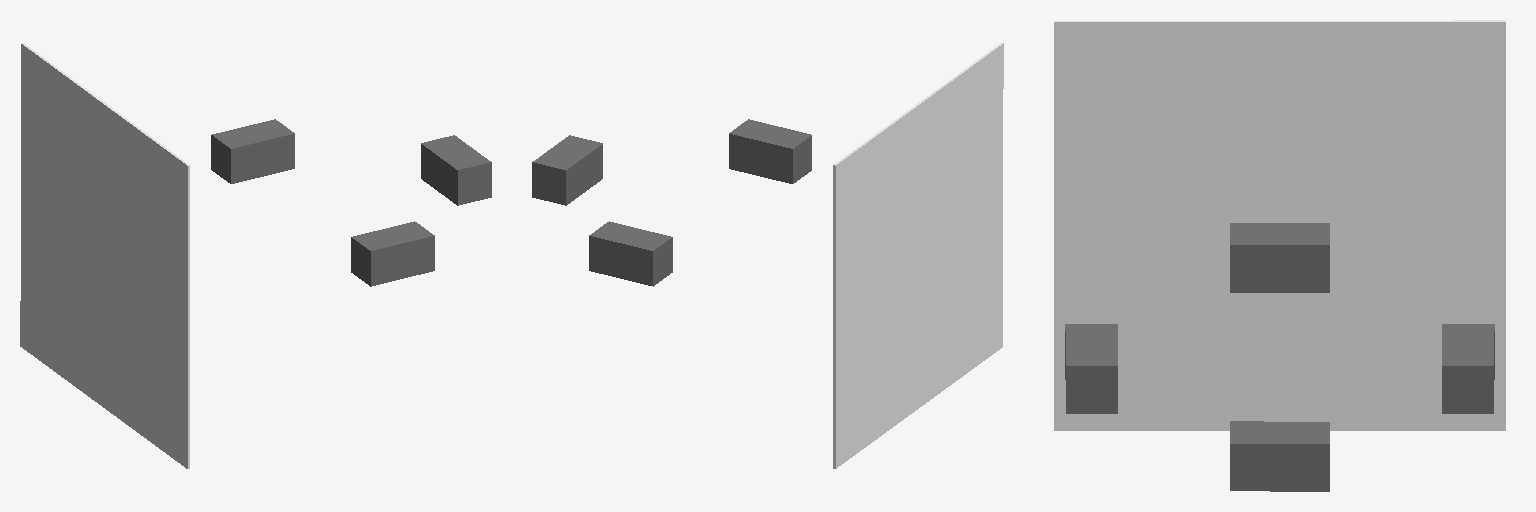
robot.urdf — turtlebot3_burger_cam:
<?xml version="1.0" ?>
<robot name="turtlebot3_burger_cam"
  xmlns:xacro="http://ros.org/wiki/xacro">
  
  <material name="black">
      <color rgba="0.0 0.0 0.0 1.0"/>
  </material>

  <material name="dark">
    <color rgba="0.3 0.3 0.3 1.0"/>
  </material>

  <material name="light_black">
    <color rgba="0.4 0.4 0.4 1.0"/>
  </material>

  <material name="blue">
    <color rgba="0.0 0.0 0.8 1.0"/>
  </material>

  <material name="green">
    <color rgba="0.0 0.8 0.0 1.0"/>
  </material>

  <material name="grey">
    <color rgba="0.5 0.5 0.5 1.0"/>
  </material>

  <material name="orange">
    <color rgba="1.0 0.4235 0.0392 1.0"/>
  </material>

  <material name="brown">
    <color rgba="0.8706 0.8118 0.7647 1.0"/>
  </material>

  <material name="red">
    <color rgba="0.8 0.0 0.0 1.0"/>
  </material>

  <material name="white">
    <color rgba="1.0 1.0 1.0 1.0"/>
  </material>
  
  <link name="base_footprint"/>

  <joint name="base_joint" type="fixed">
    <parent link="base_footprint"/>
    <child link="base_link"/>
    <origin xyz="0.0 0.0 0.010" rpy="0 0 0"/>
  </joint>

  <link name="base_link">
    <visual>
      <origin xyz="-0.032 0 0.0" rpy="0 0 0"/>
      <geometry>
        <mesh filename="package://leader_bot/meshes/bases/burger_base.stl" scale="0.001 0.001 0.001"/>
      </geometry>
      <material name="light_black"/>
    </visual>

    <collision>
      <origin xyz="-0.032 0 0.070" rpy="0 0 0"/>
      <geometry>
        <box size="0.140 0.140 0.143"/>
      </geometry>
    </collision>

    <inertial>
      <origin xyz="0 0 0" rpy="0 0 0"/>
      <mass value="8.2573504e-01"/>
      <inertia ixx="2.2124416e-03" ixy="-1.2294101e-05" ixz="3.4938785e-05" iyy="2.1193702e-03" iyz="-5.0120904e-06" izz="2.0064271e-03" />
    </inertial>
  </link>

   <!-- ───────────── MATERIAL DEFINITIONS ───────────── -->
  <material name="aruco_texture">
    <color rgba="1.0 1.0 1.0 1.0"/>
    <texture filename="[local-path]/formation_turtlebot/src/leader_bot/models/aruco_marker/image.png"/>
  </material>

  <!-- ───────────── ARUCO MARKER ATTACHMENT ───────────── -->
  <joint name="aruco_marker_joint" type="fixed">
    <!-- Place behind the robot (0.12 m) and 0.10 m up -->
    <origin xyz="-0.12 0 0.10" rpy="0 0 1.57"/>
    <parent link="base_link"/>
    <child link="aruco_marker_link"/>
  </joint>

  <link name="aruco_marker_link">
    <visual>
      <!-- Rotate around Y so the marker faces backward if needed -->
      <origin xyz="0 0 0" rpy="0 1.57 0"/>
      <geometry>
        <!-- A 12 cm x 12 cm marker plate, 1 mm thick -->
        <box size="0.12 0.001 0.12"/>

      </geometry>
      <material name="aruco_texture"/>
    </visual>
  </link>

  <!-- Gazebo extension for texture so it's not all white in simulation -->
  <gazebo reference="aruco_marker_link">
    <material>
      <script>
        <!-- Correct the directory for Gazebo to recognize -->
        <uri>model://aruco_marker</uri>
        <name>aruco_texture</name>
      </script>
    </material>
  </gazebo>



  <joint name="wheel_left_joint" type="continuous">
    <parent link="base_link"/>
    <child link="wheel_left_link"/>
    <origin xyz="0.0 0.08 0.023" rpy="-1.57 0 0"/>
    <axis xyz="0 0 1"/>
  </joint>

  <link name="wheel_left_link">
    <visual>
      <origin xyz="0 0 0" rpy="1.57 0 0"/>
      <geometry>
        <mesh filename="package://leader_bot/meshes/wheels/left_tire.stl" scale="0.001 0.001 0.001"/>
      </geometry>
      <material name="dark"/>
    </visual>

    <collision>
      <origin xyz="0 0 0" rpy="0 0 0"/>
      <geometry>
        <cylinder length="0.018" radius="0.033"/>
      </geometry>
    </collision>

    <inertial>
      <origin xyz="0 0 0" />
      <mass value="2.8498940e-02" />
      <inertia ixx="1.1175580e-05" ixy="-4.2369783e-11" ixz="-5.9381719e-09" iyy="1.1192413e-05" iyz="-1.4400107e-11" izz="2.0712558e-05" />
    </inertial>
  </link>

  <joint name="wheel_right_joint" type="continuous">
    <parent link="base_link"/>
    <child link="wheel_right_link"/>
    <origin xyz="0.0 -0.080 0.023" rpy="-1.57 0 0"/>
    <axis xyz="0 0 1"/>
  </joint>

  <link name="wheel_right_link">
    <visual>
      <origin xyz="0 0 0" rpy="1.57 0 0"/>
      <geometry>
        <mesh filename="package://leader_bot/meshes/wheels/right_tire.stl" scale="0.001 0.001 0.001"/>
      </geometry>
      <material name="dark"/>
    </visual>

    <collision>
      <origin xyz="0 0 0" rpy="0 0 0"/>
      <geometry>
        <cylinder length="0.018" radius="0.033"/>
      </geometry>
    </collision>

    <inertial>
      <origin xyz="0 0 0" />
      <mass value="2.8498940e-02" />
      <inertia ixx="1.1175580e-05" ixy="-4.2369783e-11" ixz="-5.9381719e-09" iyy="1.1192413e-05" iyz="-1.4400107e-11" izz="2.0712558e-05" />
    </inertial>
  </link>

  <joint name="caster_back_joint" type="fixed">
    <parent link="base_link"/>
    <child link="caster_back_link"/>
    <origin xyz="-0.081 0 -0.004" rpy="-1.57 0 0"/>
  </joint>

  <link name="caster_back_link">
    <collision>
      <origin xyz="0 0.001 0" rpy="0 0 0"/>
      <geometry>
        <box size="0.030 0.009 0.020"/>
      </geometry>
    </collision>

    <inertial>
      <origin xyz="0 0 0" />
      <mass value="0.005" />
      <inertia ixx="0.001" ixy="0.0" ixz="0.0" iyy="0.001" iyz="0.0" izz="0.001" />
    </inertial>
  </link>

  <joint name="imu_joint" type="fixed">
    <parent link="base_link"/>
    <child link="imu_link"/>
    <origin xyz="-0.032 0 0.068" rpy="0 0 0"/>
  </joint>

  <link name="imu_link"/>

  <joint name="scan_joint" type="fixed">
    <parent link="base_link"/>
    <child link="base_scan"/>
    <origin xyz="-0.032 0 0.172" rpy="0 0 0"/>
  </joint>

  <link name="base_scan">
    <visual>
      <origin xyz="0 0 0.0" rpy="0 0 0"/>
      <geometry>
        <mesh filename="package://leader_bot/meshes/sensors/lds.stl" scale="0.001 0.001 0.001"/>
      </geometry>
      <material name="dark"/>
    </visual>

    <collision>
      <origin xyz="0.015 0 -0.0065" rpy="0 0 0"/>
      <geometry>
        <cylinder length="0.0315" radius="0.055"/>
      </geometry>
    </collision>

    <inertial>
      <mass value="0.114" />
      <origin xyz="0 0 0" />
      <inertia ixx="0.001" ixy="0.0" ixz="0.0" iyy="0.001" iyz="0.0" izz="0.001" />
    </inertial>
  </link>
  
    
   
    <!-- Front Camera - Fixed Height & FOV -->
  <joint name="camera_front_joint" type="fixed">
    <origin xyz="0.025 0.000 0.10" rpy="0 0 0"/>  <!-- เปลี่ยน z เป็น 0.090 -->
    <parent link="base_link"/>
    <child link="camera_front_link"/>
  </joint>

  <link name="camera_front_link">
    <visual>
      <origin xyz="0 0 0" rpy="0 0 1.57"/>  <!-- ปรับให้ฉายภาพออกด้านหน้า -->
      <geometry>
        <box size="0.0265 0.014 0.014"/>
      </geometry>
      <material name="grey"/>
    </visual>
  </link>

  <gazebo reference="camera_front_link">
    <sensor type="camera" name="camera_front_sensor">
      <update_rate>30</update_rate>
      <always_on>true</always_on>
      <visualize>true</visualize>
      <camera>
        <horizontal_fov>1.57</horizontal_fov> <!-- ปรับ FOV ให้เท่ากับกล้องซ้ายขวา -->
        <image>
          <width>640</width>
          <height>480</height>
          <format>R8G8B8</format>
        </image>
      </camera>
      <plugin name="camera_front_plugin" filename="libgazebo_ros_camera.so">
        <frameName>camera_front_link</frameName>
      </plugin>
    </sensor>
  </gazebo>

  <!-- Back Camera - Fixed Height & FOV -->
  <joint name="camera_back_joint" type="fixed">
    <origin xyz="-0.100 0.000 0.10" rpy="0 0 3.14"/>  <!-- เปลี่ยน z เป็น 0.090 -->
    <parent link="base_link"/>
    <child link="camera_back_link"/>
  </joint>

  <link name="camera_back_link">
    <visual>
      <origin xyz="0 0 0" rpy="0 0 -1.57"/>  <!-- ปรับให้ฉายภาพออกด้านหลัง -->
      <geometry>
        <box size="0.0265 0.014 0.014"/>
      </geometry>
      <material name="grey"/>
    </visual>
  </link>

  <gazebo reference="camera_back_link">
    <sensor type="camera" name="camera_back_sensor">
      <update_rate>30</update_rate>
      <always_on>true</always_on>
      <visualize>true</visualize>
      <camera>
        <horizontal_fov>1.57</horizontal_fov>  <!-- ปรับให้เหมือนกันทุกกล้อง -->
        <image>
          <width>640</width>
          <height>480</height>
          <format>R8G8B8</format>
        </image>
      </camera>
      <plugin name="camera_back_plugin" filename="libgazebo_ros_camera.so">
        <frameName>camera_back_link</frameName>
      </plugin>
    </sensor>
  </gazebo>



    <!-- Left Camera - Positioned at the Side Center -->
  <joint name="camera_left_joint" type="fixed">
    <origin xyz="-0.03 0.050 0.10" rpy="0 0 1.57"/> 
    <parent link="base_link"/>
    <child link="camera_left_link"/>
  </joint>

  <link name="camera_left_link">
    <visual>
      <origin xyz="0 0 0" rpy="0 0 1.57"/>  <!-- ให้กล้องหันออกด้านข้าง -->
      <geometry>
        <box size="0.0265 0.014 0.014"/>
      </geometry>
      <material name="grey"/>
    </visual>
  </link>

  <!-- Right Camera - Positioned at the Side Center -->
  <joint name="camera_right_joint" type="fixed">
    <origin xyz="-0.03 -0.050 0.10" rpy="0 0 -1.57"/> 
    <parent link="base_link"/>
    <child link="camera_right_link"/>
  </joint>

  <link name="camera_right_link">
    <visual>
      <origin xyz="0 0 0" rpy="0 0 -1.57"/>  <!-- ให้กล้องหันออกด้านข้าง -->
      <geometry>
        <box size="0.0265 0.014 0.014"/>
      </geometry>
      <material name="grey"/>
    </visual>
  </link>

 

  <gazebo reference="camera_left_link">
    <sensor type="camera" name="camera_left_sensor">
      <update_rate>30</update_rate>
      <always_on>true</always_on>
      <visualize>true</visualize>
      <camera>
        <horizontal_fov>1.57</horizontal_fov>
        <image>
          <width>640</width>
          <height>480</height>
          <format>R8G8B8</format>
        </image>
      </camera>
      <plugin name="camera_left_plugin" filename="libgazebo_ros_camera.so">
        <frameName>camera_left_link</frameName>
      </plugin>
    </sensor>
  </gazebo>

  <gazebo reference="camera_right_link">
    <sensor type="camera" name="camera_right_sensor">
      <update_rate>30</update_rate>
      <always_on>true</always_on>
      <visualize>true</visualize>
      <camera>
        <horizontal_fov>1.57</horizontal_fov>
        <image>
          <width>640</width>
          <height>480</height>
          <format>R8G8B8</format>
        </image>
      </camera>
      <plugin name="camera_right_plugin" filename="libgazebo_ros_camera.so">
        <frameName>camera_right_link</frameName>
      </plugin>
    </sensor>
  </gazebo>


</robot>

--- Facts derived from the render (not from the file) ---
3 views of the same robot in one strip: view 1: azimuth 30°, elevation 25°; view 2: azimuth 150°, elevation 25°; view 3: azimuth 270°, elevation 25° (orthographic).
Model turtlebot3_burger_cam with 12 links and 11 joints (2 continuous, 9 fixed), rooted at base_footprint, posed all joints at 0.
Visible links, largest first — view 1: aruco_marker_link, camera_right_link, camera_left_link, camera_front_link; view 2: aruco_marker_link, camera_left_link, camera_right_link, camera_front_link; view 3: aruco_marker_link, camera_back_link, camera_front_link, camera_left_link, camera_right_link.
Link boxes in pixels (x1,y1,x2,y2): aruco_marker_link: [20, 43, 189, 468]; camera_right_link: [351, 221, 434, 286]; camera_left_link: [211, 119, 294, 183]; camera_front_link: [421, 135, 491, 205]; aruco_marker_link: [833, 43, 1003, 468]; camera_left_link: [589, 221, 672, 286]; camera_right_link: [729, 119, 811, 183]; camera_front_link: [532, 135, 602, 205]; aruco_marker_link: [1054, 20, 1505, 430]; camera_back_link: [1230, 223, 1329, 292]; camera_front_link: [1230, 421, 1329, 491]; camera_left_link: [1442, 324, 1494, 413]; camera_right_link: [1065, 324, 1117, 413].
Bounding box of the posed robot: 0.1526 × 0.1201 × 0.1201 m (x, y, z).
Meshes: 4 distinct files referenced, 0 mesh visuals loaded (none loaded); not drawn: 4 (reference not matched to a file when rendering).